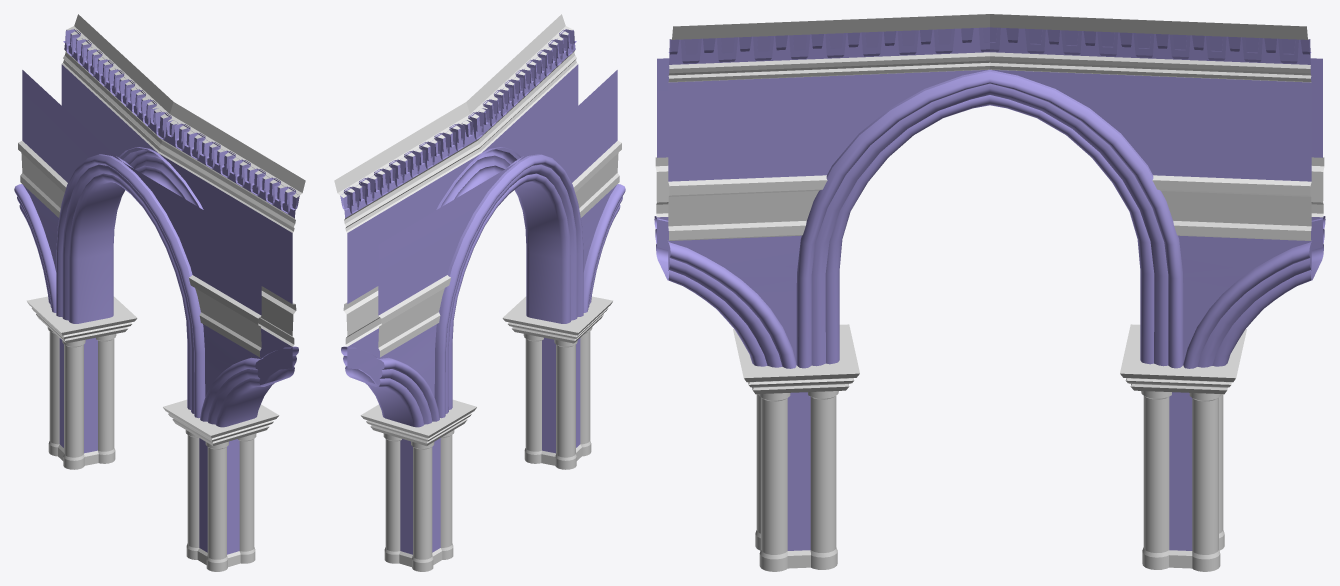
The model's file is Big Arch.fbx.
The picture shows the model from 3 angles, left to right: view 1: azimuth 30°, elevation 25°; view 2: azimuth 150°, elevation 25°; view 3: azimuth 270°, elevation 25°; orthographic projection. The views are drawn at different scales.
Parts seen in each view (by area): view 1: Big Arch_LOD0; view 2: Big Arch_LOD0; view 3: Big Arch_LOD0.
Boxes of the visible parts, bbox=[...] form: Big Arch_LOD0: bbox=[14, 14, 305, 571]; Big Arch_LOD0: bbox=[334, 14, 625, 571]; Big Arch_LOD0: bbox=[654, 14, 1325, 571].
Size of what is drawn, in the model's own units: 177 by 844 by 923.
